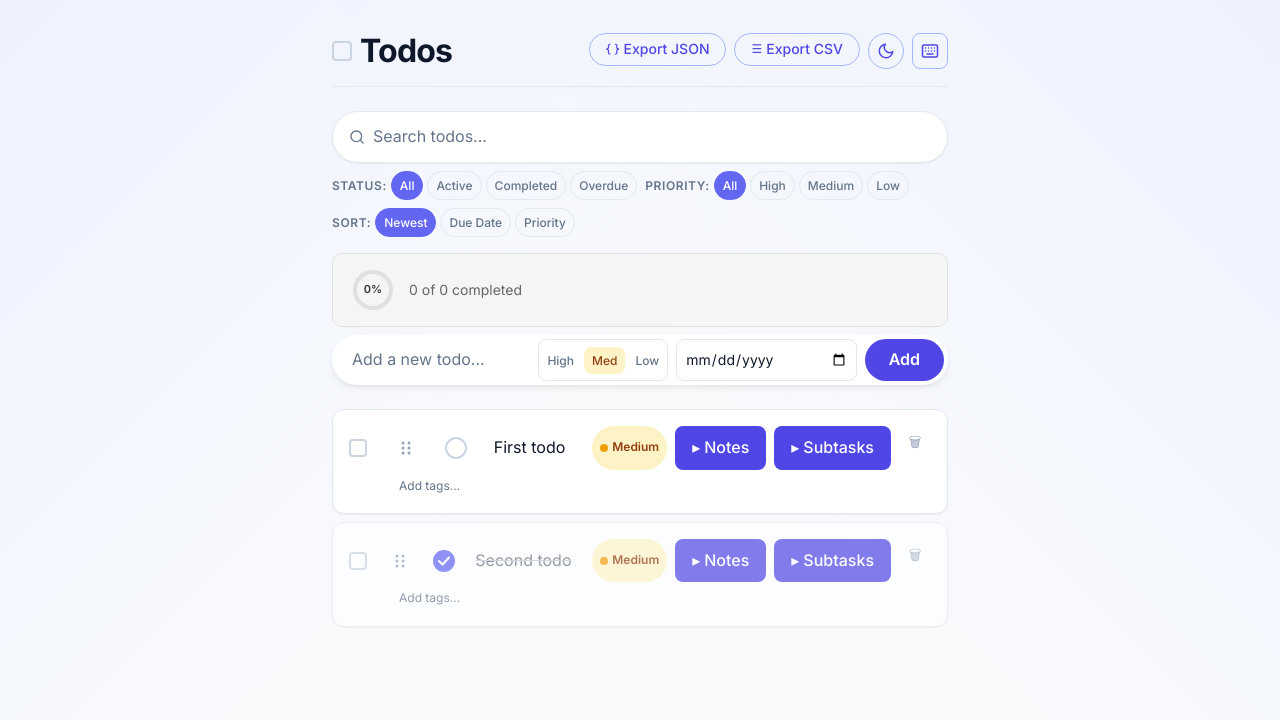
Test: TodoList › restores todo when undo is clicked
Expected: the button "First todo" is shown, [494,435,565,461]
Click the button named "delete": (915, 442) [899,426,931,458]
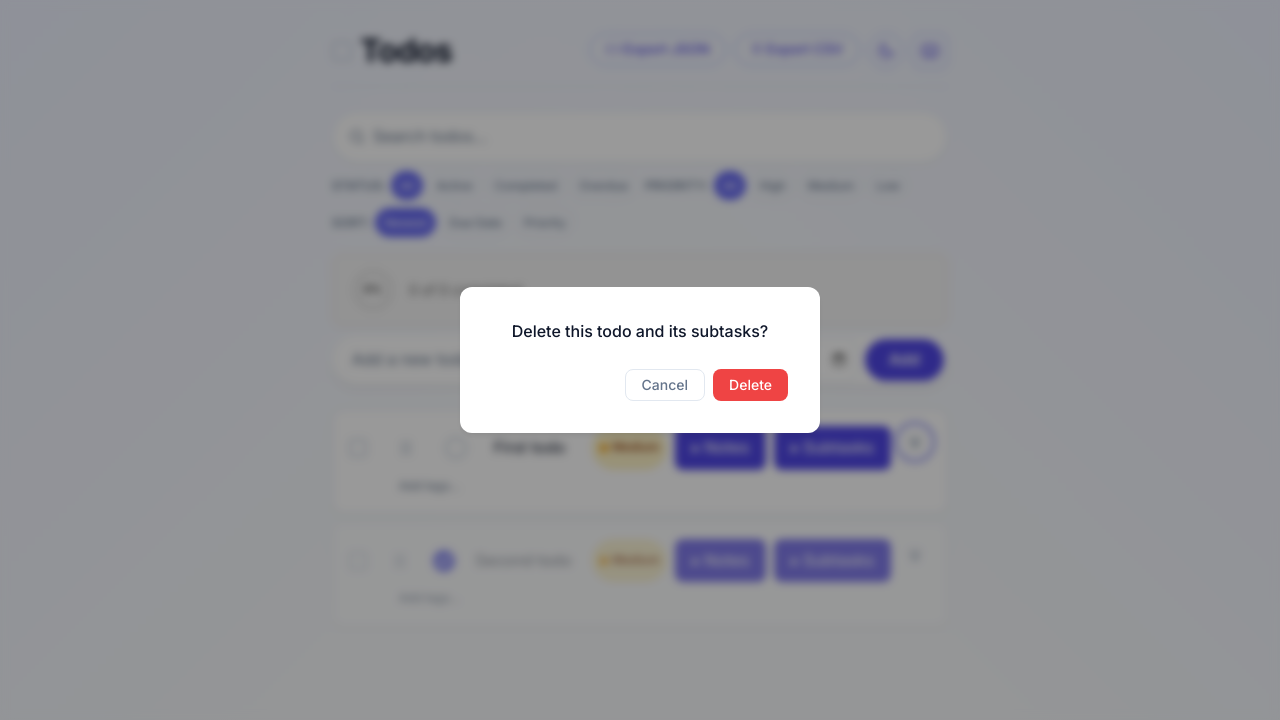
Click the button with aria-label "confirm delete": (751, 385) [713,369,788,401]
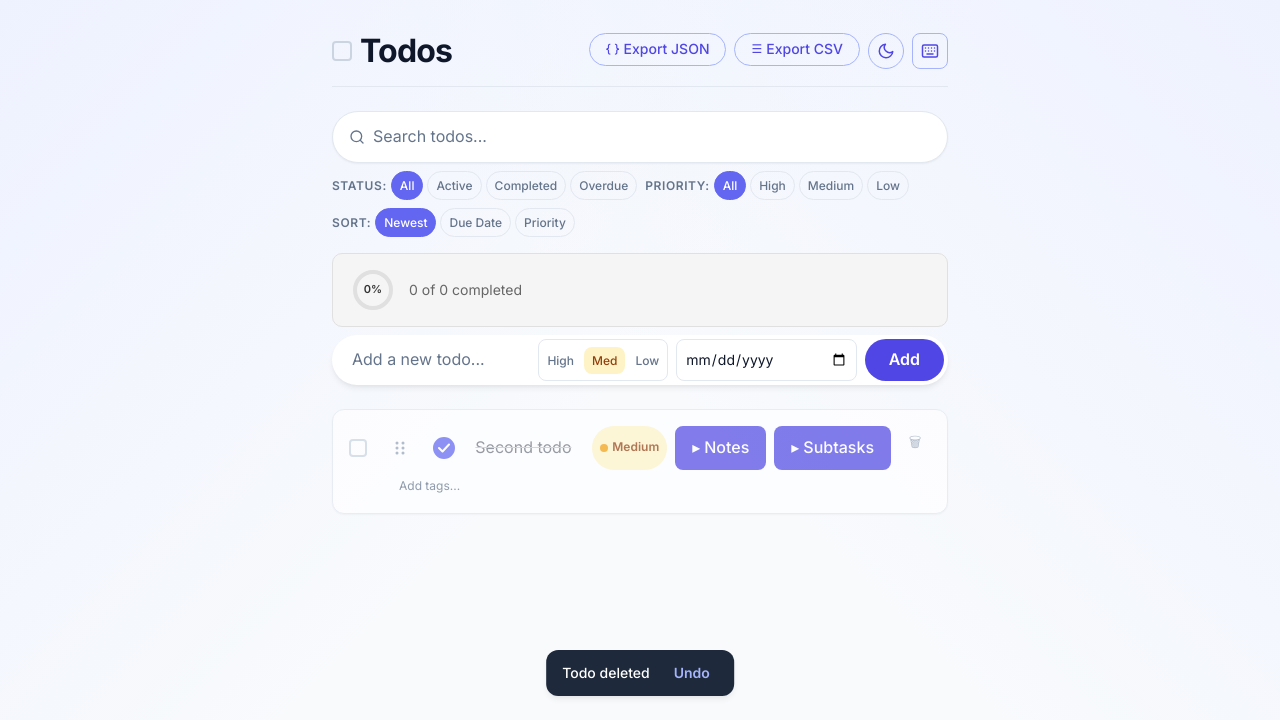
Now the button "First todo" is gone
Click undo
Click the button with aria-label "undo delete": (692, 673) [666,658,718,688]
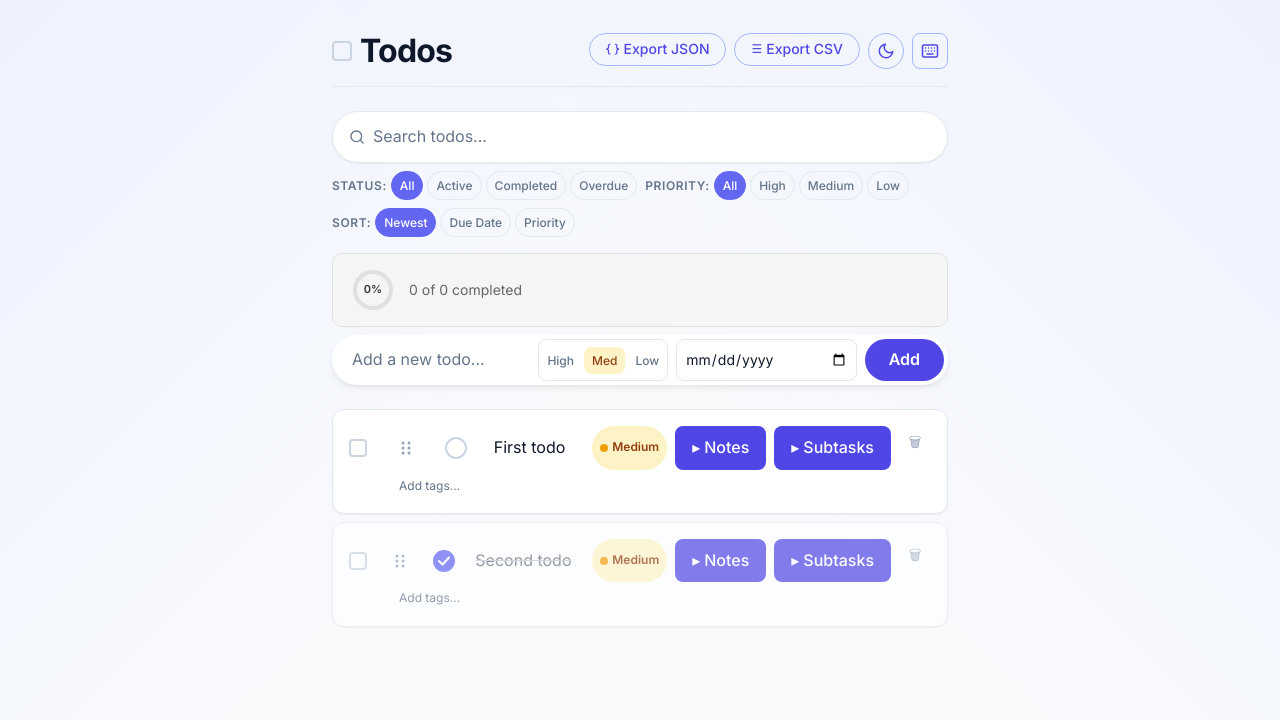
Now the button "First todo" is shown, box [494,435,565,461]
Now the text "Todo deleted" is gone
